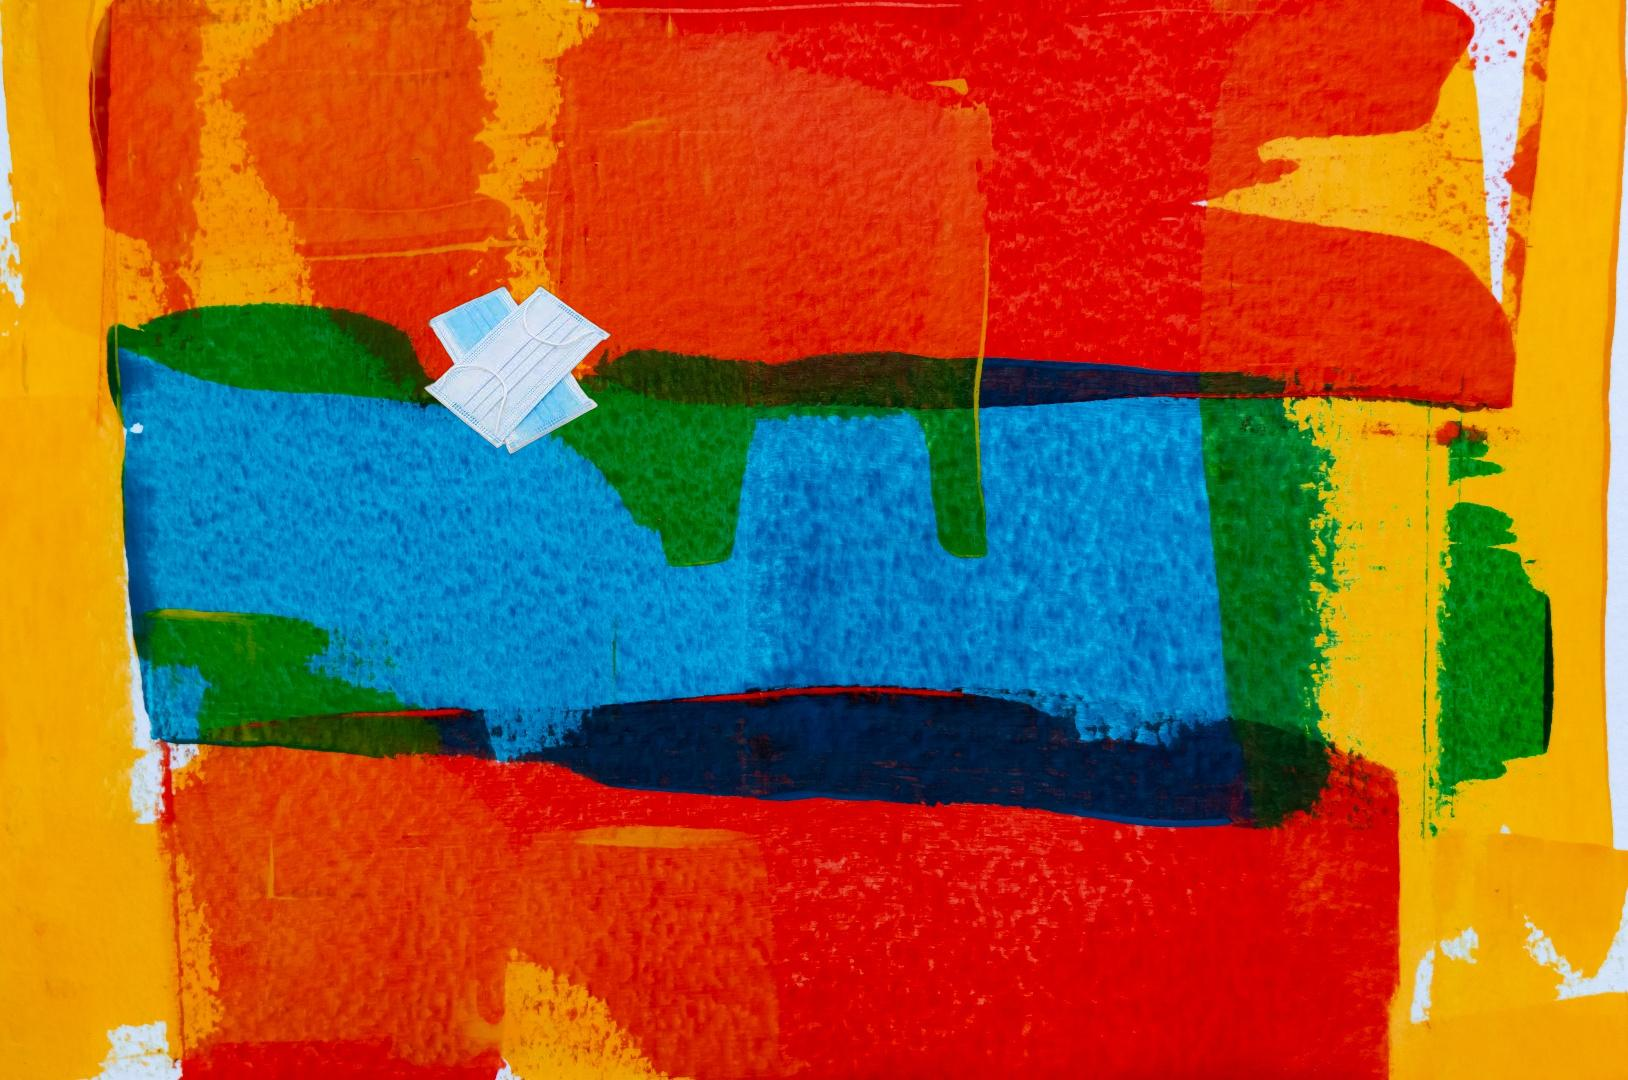glass: (551, 928, 860, 1080)
trash: (421, 283, 615, 459)
